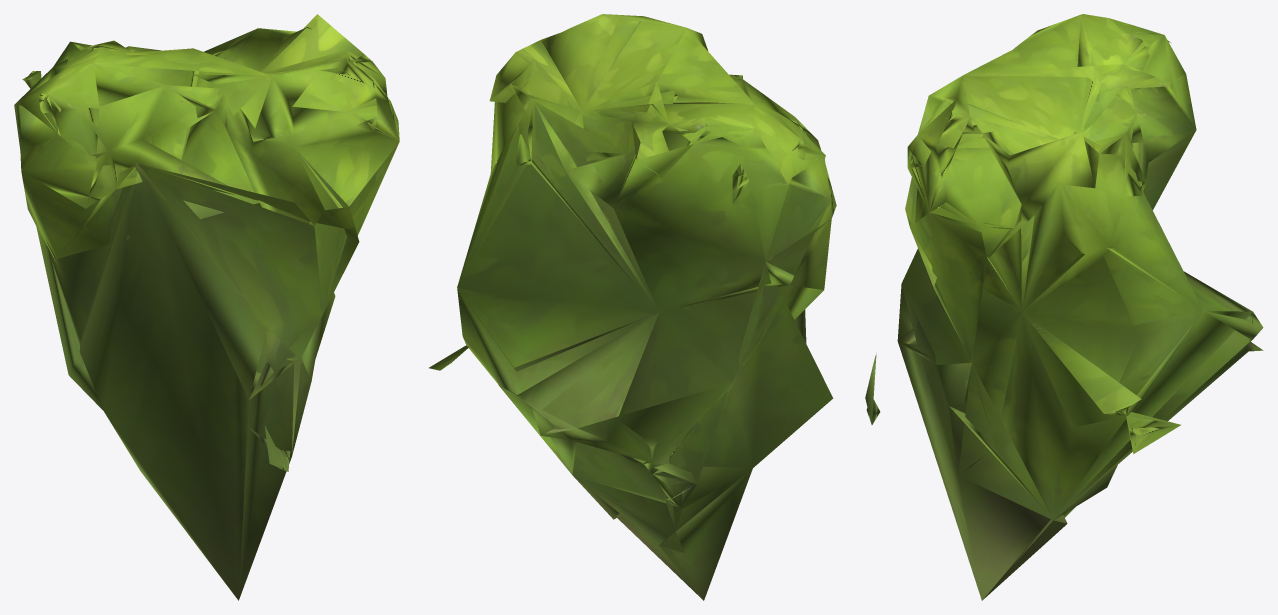
The model's file is great-tree.glb.
3 renders of one model, left to right at view 1: azimuth 30°, elevation 25°; view 2: azimuth 150°, elevation 25°; view 3: azimuth 270°, elevation 25°, orthographic. The views are drawn at different scales.
Parts seen in each view (by area): view 1: tripo_node_49b2bbf9-7929-4e75-bae8-6a006d16d397; view 2: tripo_node_49b2bbf9-7929-4e75-bae8-6a006d16d397; view 3: tripo_node_49b2bbf9-7929-4e75-bae8-6a006d16d397.
Boxes of the visible parts, x1,y1,x2,y2 form: tripo_node_49b2bbf9-7929-4e75-bae8-6a006d16d397: (14,14,399,600); tripo_node_49b2bbf9-7929-4e75-bae8-6a006d16d397: (429,14,836,600); tripo_node_49b2bbf9-7929-4e75-bae8-6a006d16d397: (865,14,1263,600).
Bounding box in the file's own units: 0.6823 × 1 × 0.6711.
1 material, 1 textured.
